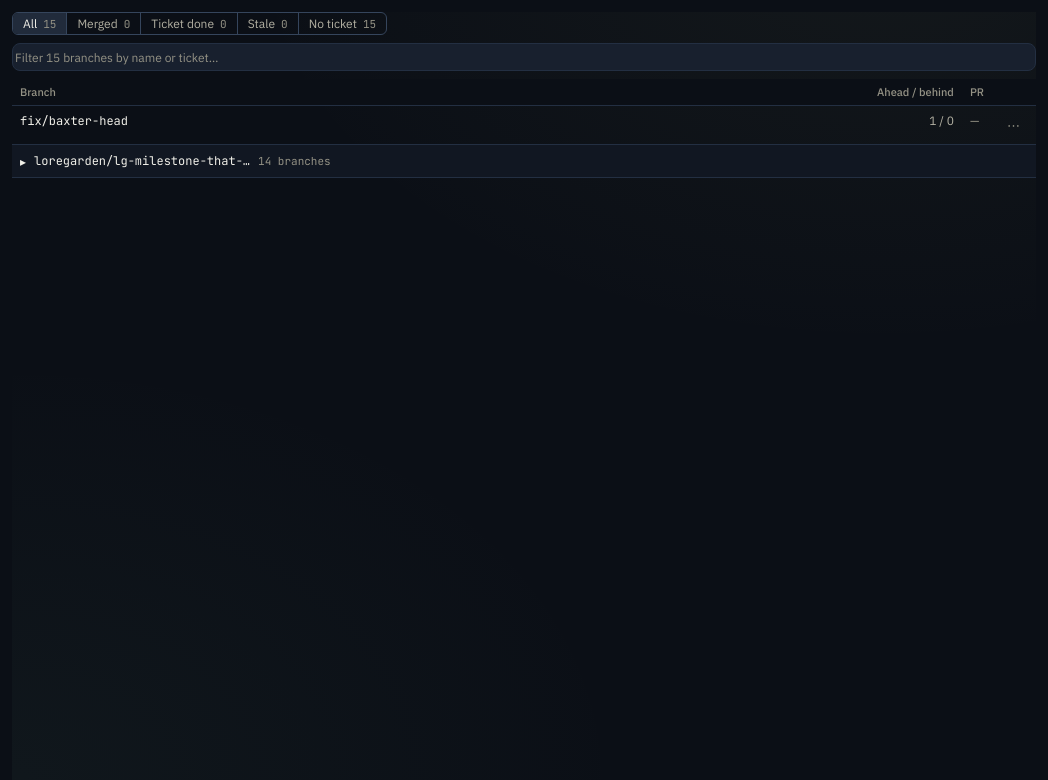
Test: BranchTriageList families › folds more than twelve branches sharing a stem into one row, and opens it on request
Click the button "▸ loregarden/lg-milestone-that-… 14 branches": (135, 161) [20, 149, 1028, 173]
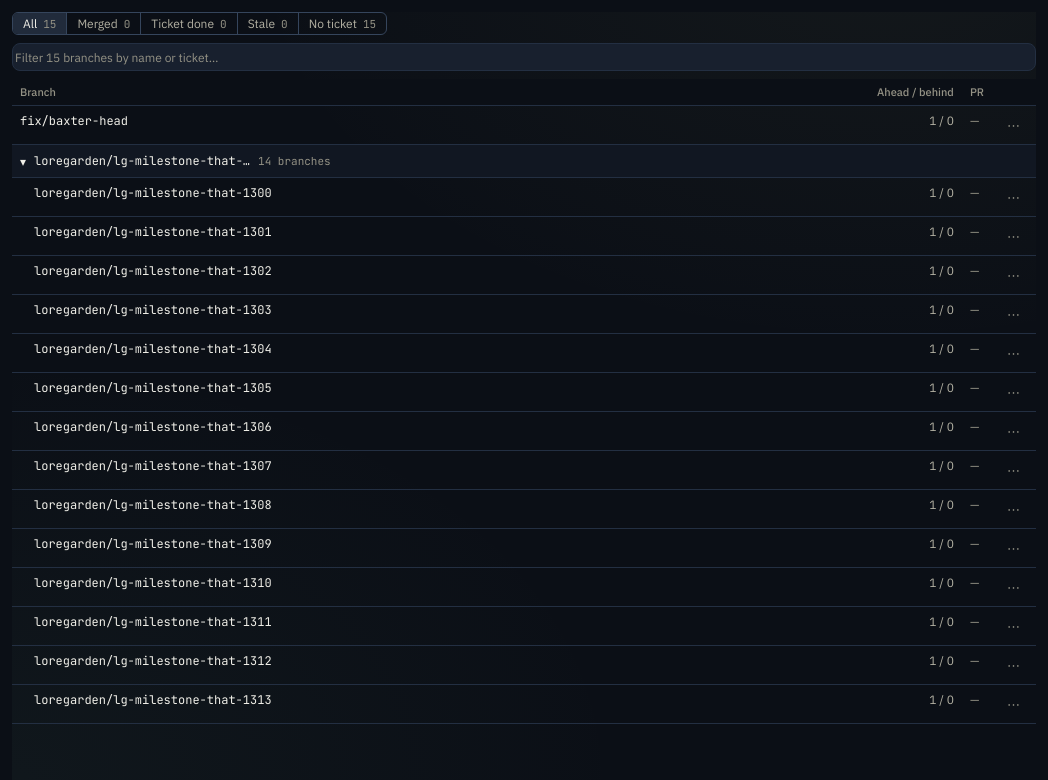
Expected: the button "▾ loregarden/lg-milestone-that-… 14 branches" is expanded, [20, 149, 1028, 173]
